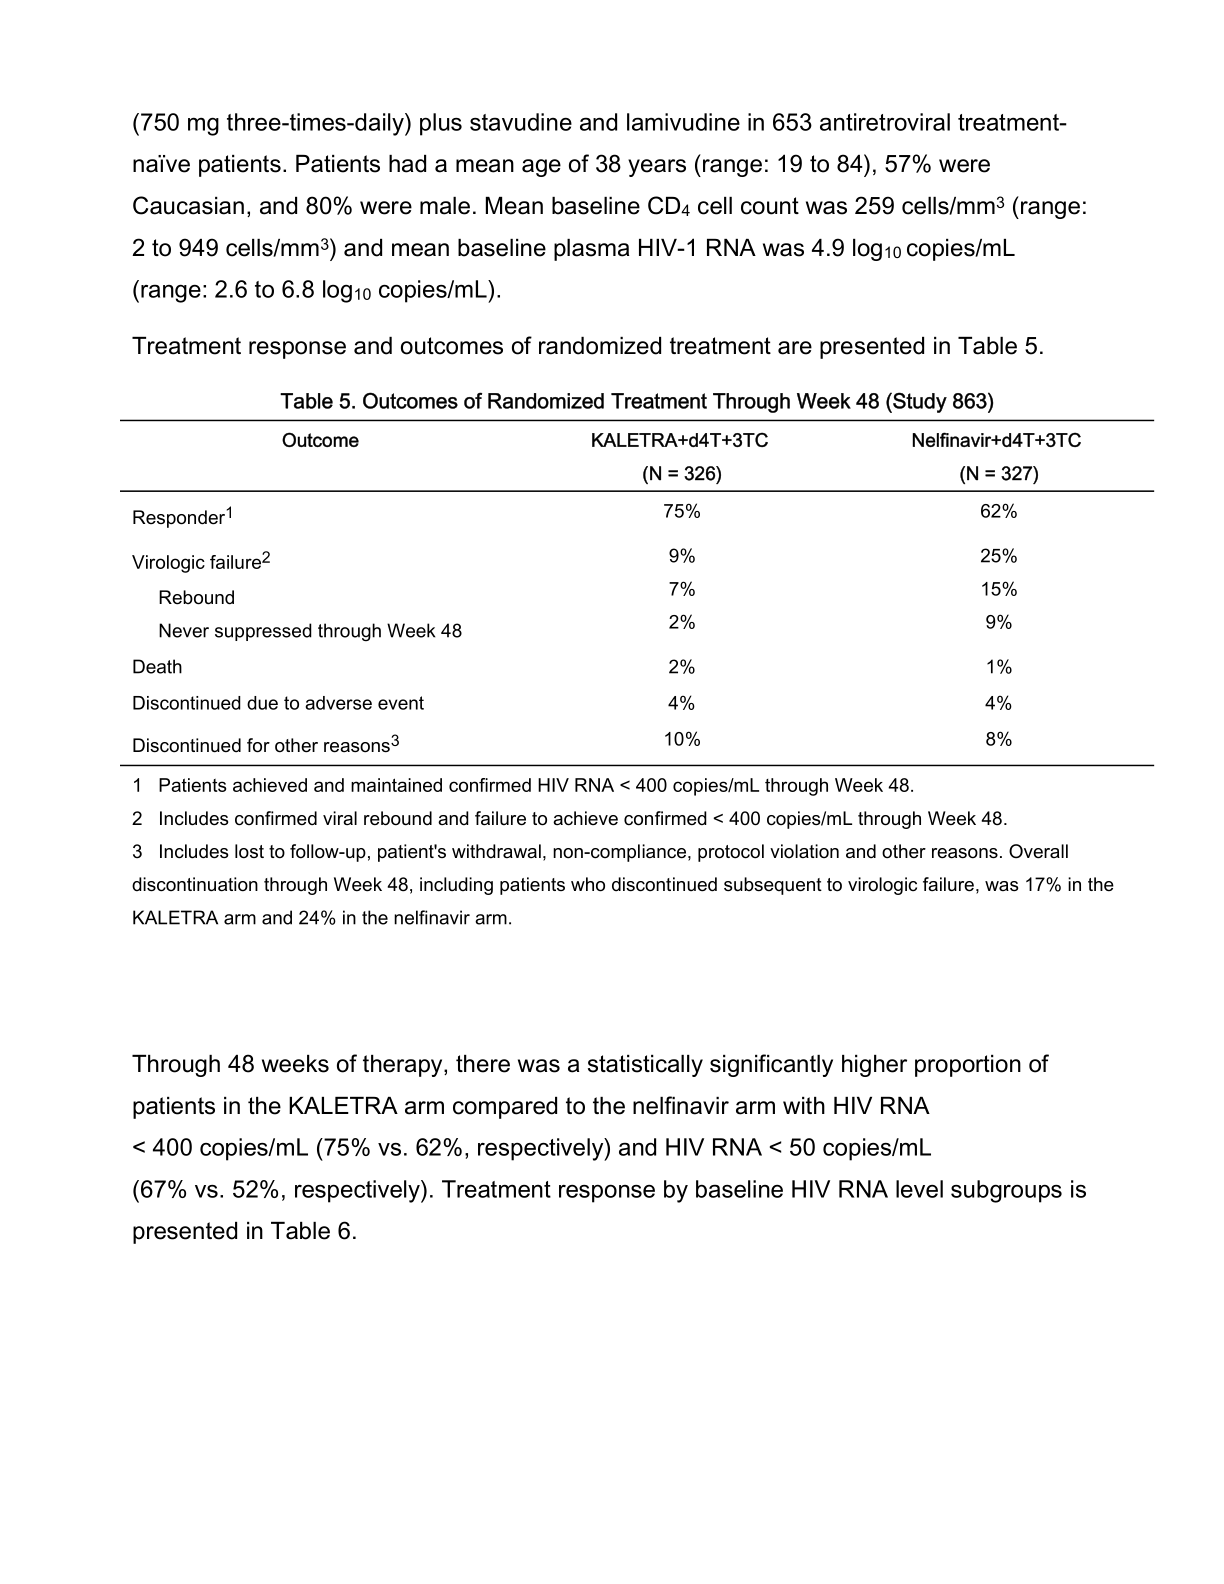partial_lined: (120, 417, 1155, 768)
